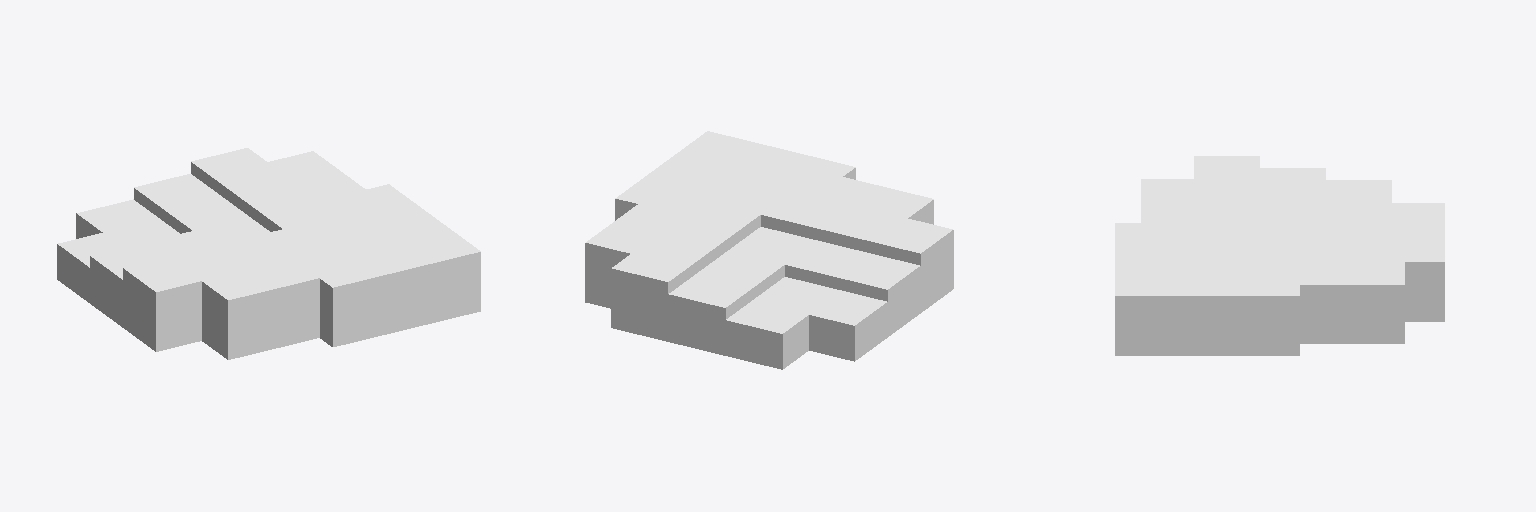
Rendered from waterlilies.obj.
3 renders of one model, left to right at view 1: azimuth 30°, elevation 25°; view 2: azimuth 150°, elevation 25°; view 3: azimuth 270°, elevation 25°, orthographic.
Visible parts, largest first — view 1: object 1; view 2: object 1; view 3: object 1.
Part boxes in pixels (left/top/right/bottom): object 1: left=57, top=148, right=480, bottom=359; object 1: left=585, top=131, right=953, bottom=369; object 1: left=1115, top=156, right=1444, bottom=355.
Bounding box in the file's own units: 2.5 × 0.5 × 2.5.